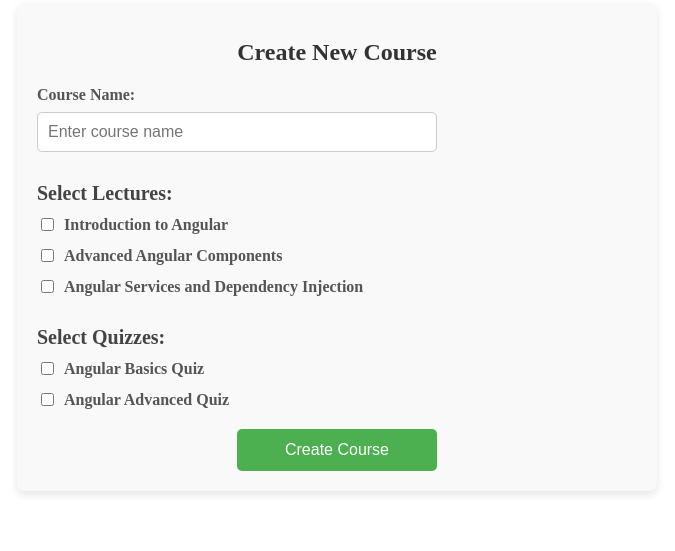
Test: Create Course Page Tests › should display an error if the course name is missing
Check the checkbox labelled "Introduction to Angular".
click(48, 225)  # box [41,218,54,231]
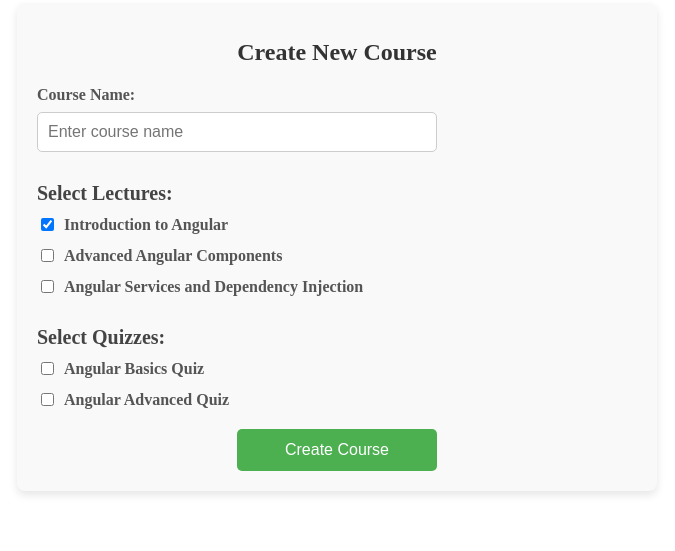
Check the checkbox labelled "Angular Basics Quiz".
click(48, 369)  # box [41,362,54,375]
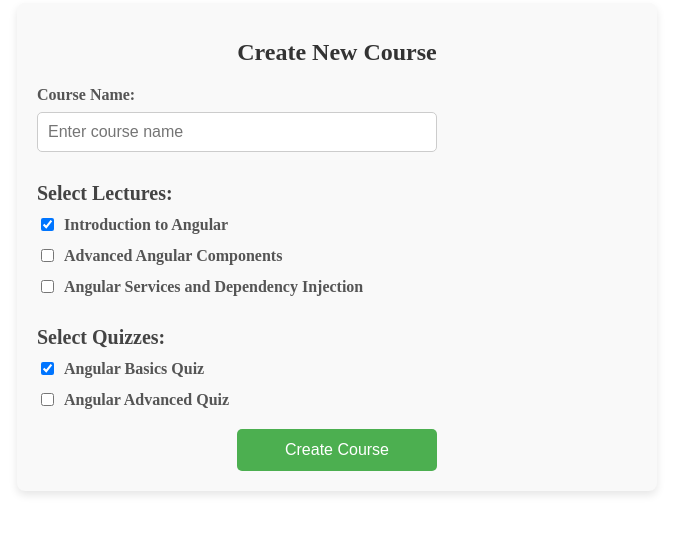
Click the button "Create Course".
click(337, 450)  # box [237,429,437,471]
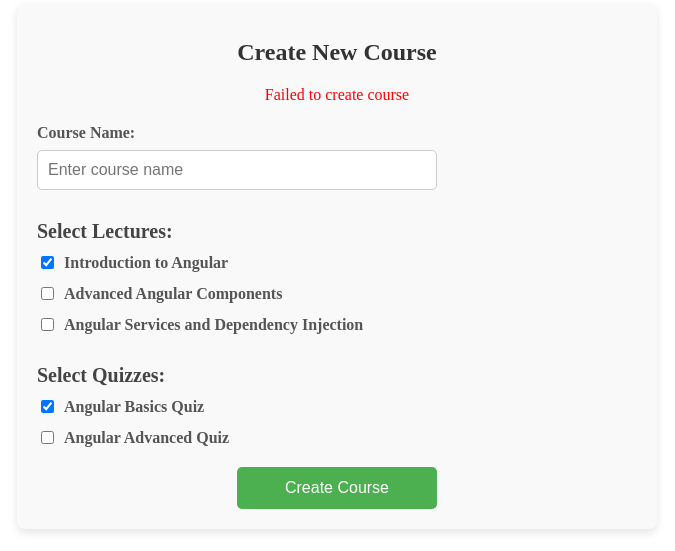
Expected: the text with class "error-message" reads "Failed to create course", [265,86,409,103]
